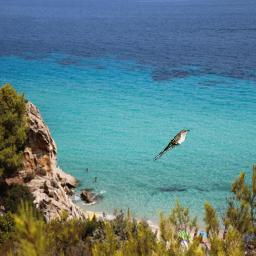Cuckoo: (152, 129, 191, 162)
